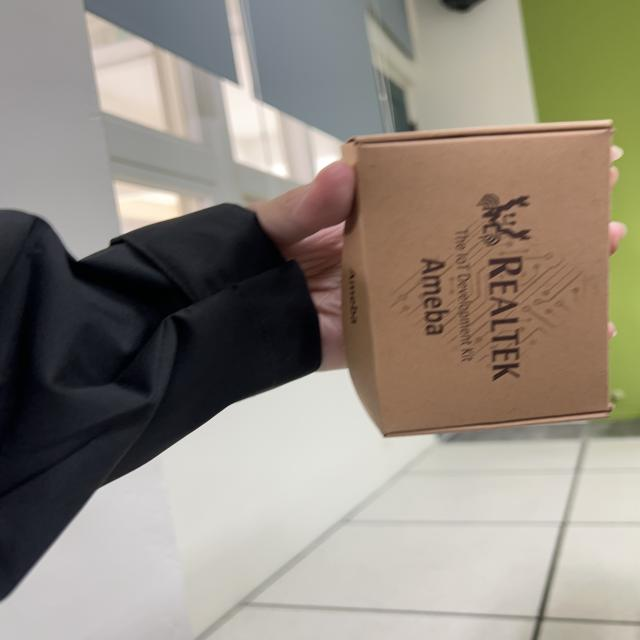box: (305, 127, 640, 455)
